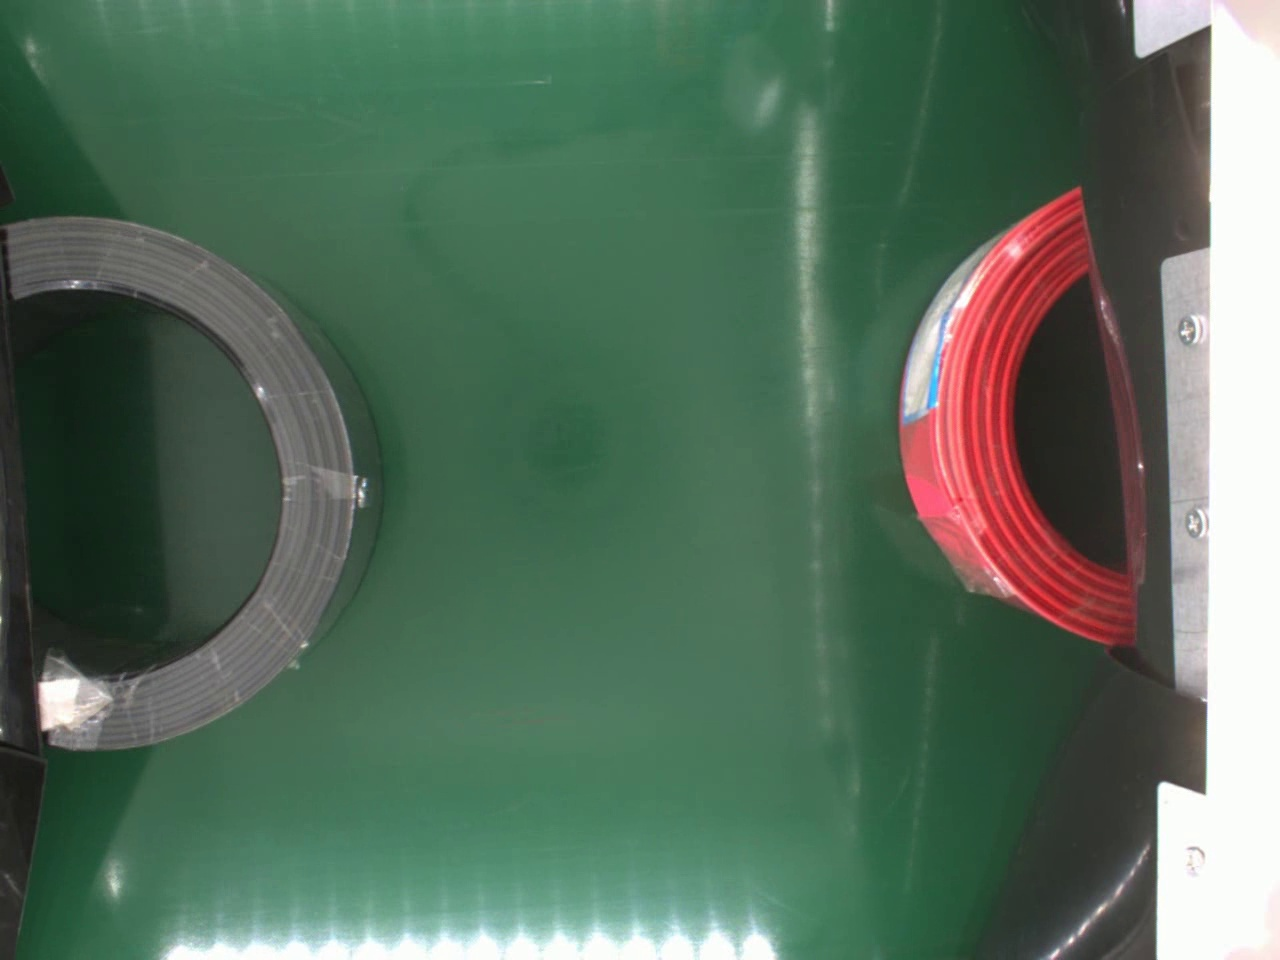black: (5, 210, 378, 759)
red: (897, 179, 1136, 652)
